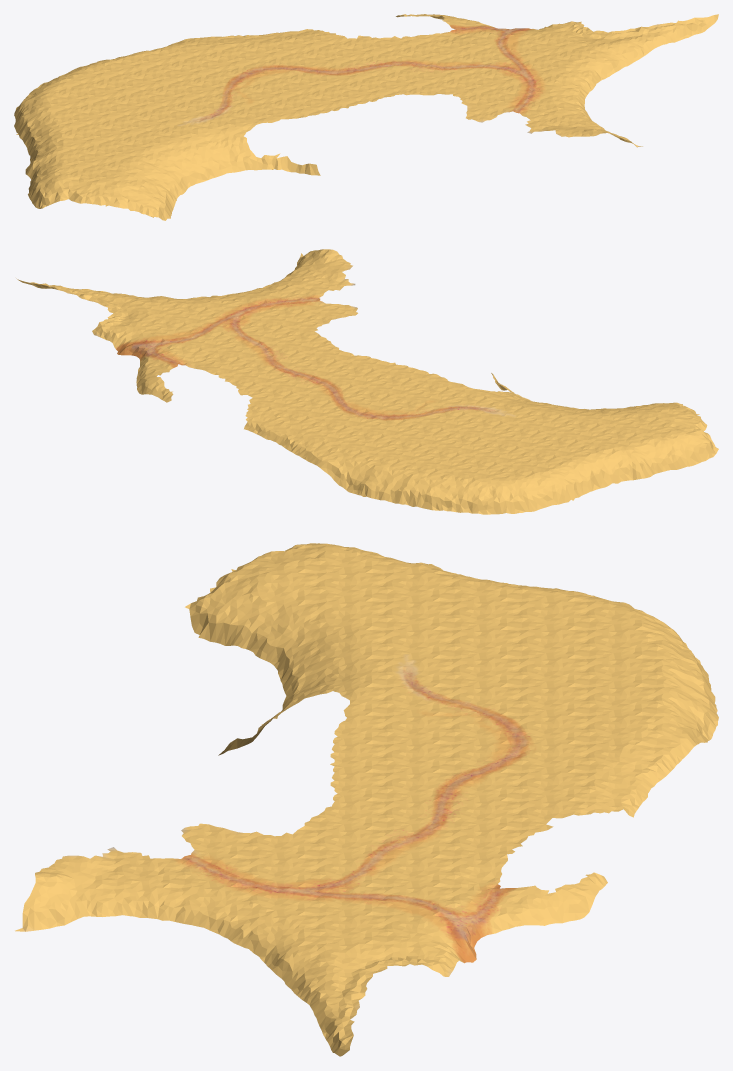
Rendered from GEO_sand_ForestPlusShape_0_8_10.fbx.
3 renders of one model, top to bottom at view 1: azimuth 30°, elevation 25°; view 2: azimuth 150°, elevation 25°; view 3: azimuth 270°, elevation 25°, orthographic. The views are drawn at different scales.
Parts seen in each view (by area): view 1: GEO_sand_ForestPlus; view 2: GEO_sand_ForestPlus; view 3: GEO_sand_ForestPlus.
Boxes of the visible parts, x1=… form: GEO_sand_ForestPlus: x1=14, y1=14, x2=718, y2=220; GEO_sand_ForestPlus: x1=16, y1=249, x2=718, y2=514; GEO_sand_ForestPlus: x1=15, y1=543, x2=718, y2=1056.
Size of the model in its own units: 1187 by 51.87 by 674.
